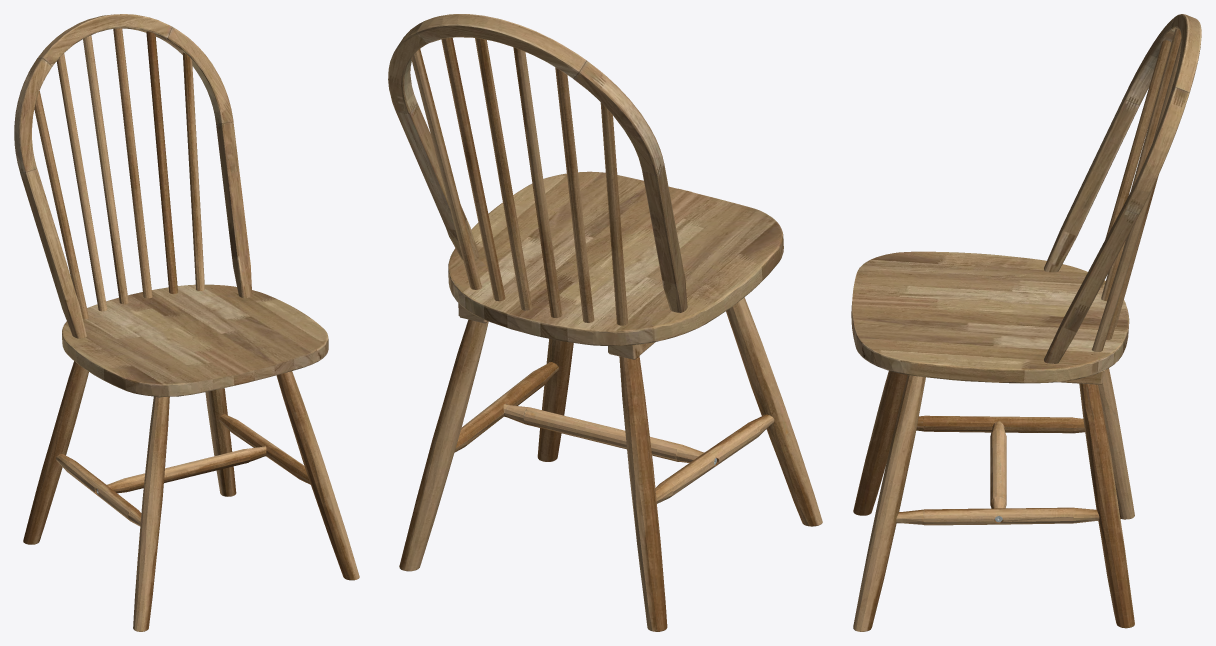
3 views of the same model, side by side, from view 1: azimuth 30°, elevation 25°; view 2: azimuth 150°, elevation 25°; view 3: azimuth 270°, elevation 25° (orthographic). The views are drawn at different scales.
Parts seen in each view (by area): view 1: model_NODE_ID_0; view 2: model_NODE_ID_0; view 3: model_NODE_ID_0.
Boxes of the visible parts, <box> form: model_NODE_ID_0: <box>14,14,359,631</box>; model_NODE_ID_0: <box>388,14,822,631</box>; model_NODE_ID_0: <box>851,14,1201,631</box>.
Bounding box in the file's own units: 0.4599 × 0.94 × 0.5501.
1 material, 1 textured.
